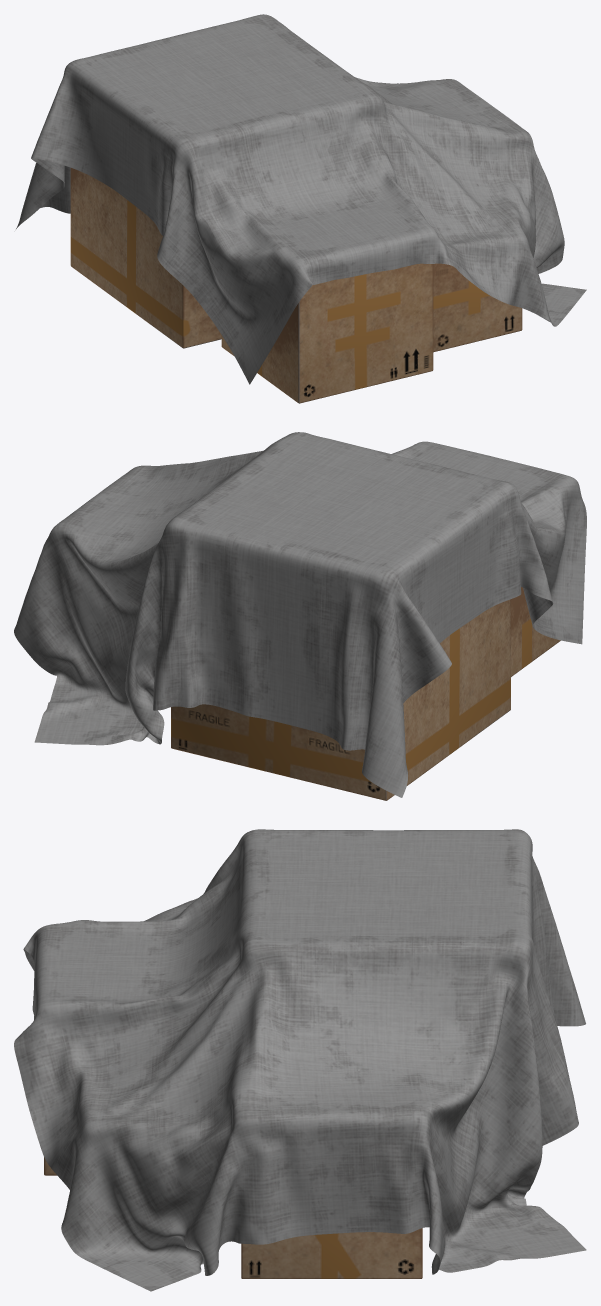
File: boxes_atticbasement_covered_with_dirty_sheet.glb
3 views of the same model, one above another, from view 1: azimuth 30°, elevation 25°; view 2: azimuth 150°, elevation 25°; view 3: azimuth 270°, elevation 25° (orthographic). The views are drawn at different scales.
Parts seen in each view (by area): view 1: Plane.002, Plane.001; view 2: Plane.002, Plane.001; view 3: Plane.002, Plane.001.
Part boxes in pixels (bbox=[...]): Plane.002: bbox=[16, 14, 586, 384]; Plane.001: bbox=[70, 168, 522, 403]; Plane.002: bbox=[14, 432, 586, 797]; Plane.001: bbox=[171, 587, 560, 800]; Plane.002: bbox=[14, 829, 586, 1291]; Plane.001: bbox=[44, 1157, 422, 1278].
Bounding box in the file's own units: 2.72 × 1.27 × 2.64.
1 material, 1 textured.
